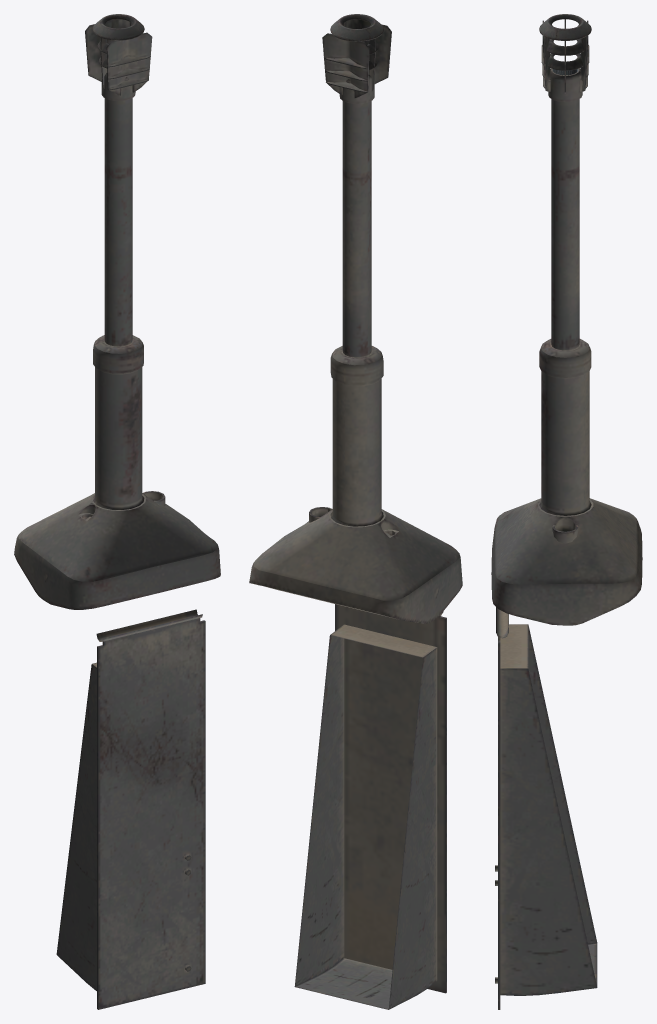
File: Gun_03.glb
3 renders of one model, left to right at view 1: azimuth 30°, elevation 25°; view 2: azimuth 150°, elevation 25°; view 3: azimuth 270°, elevation 25°, orthographic. The views are drawn at different scales.
Parts seen in each view (by area): view 1: set_0_group_0; view 2: set_0_group_0; view 3: set_0_group_0.
Part boxes in pixels (x1,y1,x2,y2): set_0_group_0: (14,14,220,1009); set_0_group_0: (249,14,462,1009); set_0_group_0: (491,14,642,1009).
Size of the model in its own units: 0.6675 by 4.05 by 0.576.
Materials: 1 (1 with a texture image).
